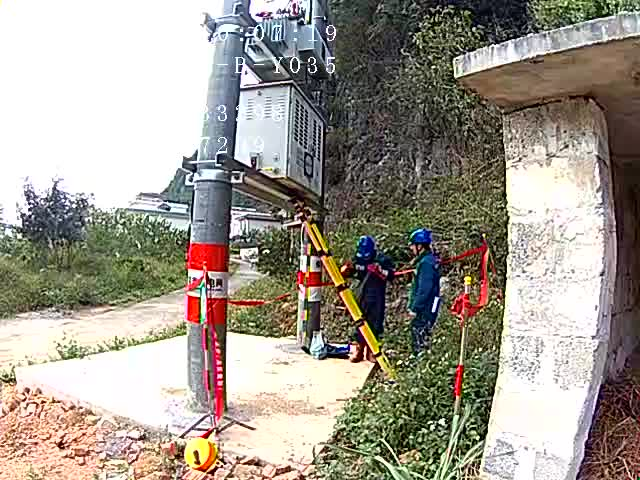halt: (186, 442, 218, 477), (414, 232, 435, 255), (360, 239, 379, 262)
